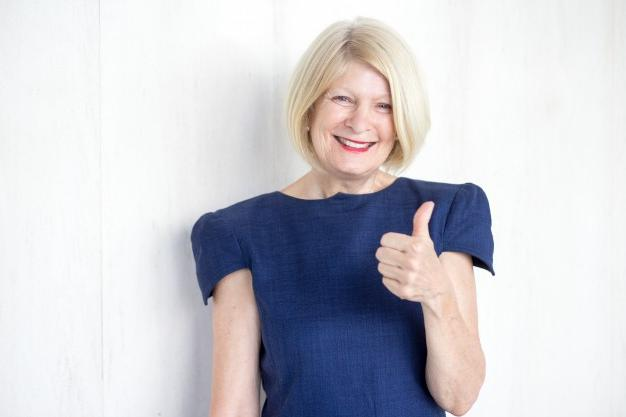thumbsup: (375, 199, 436, 302)
